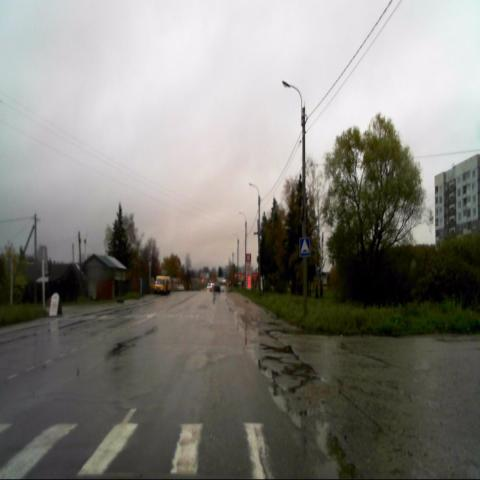5_20: (298, 236, 311, 257)
